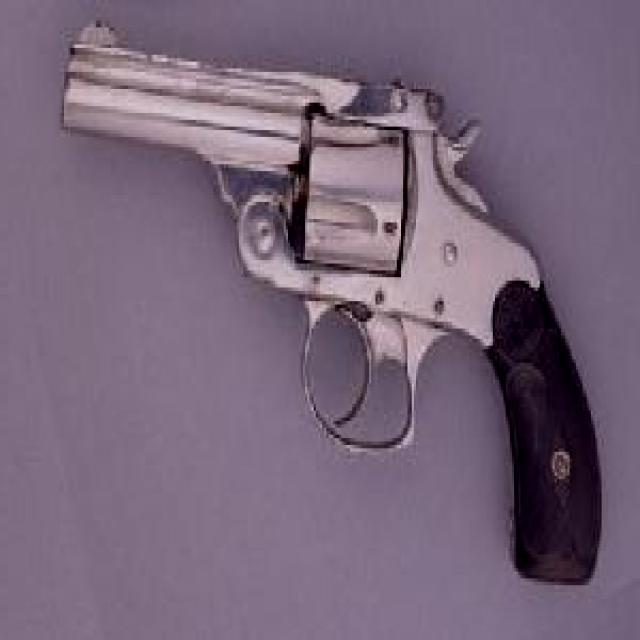pistol: (62, 0, 614, 592)
